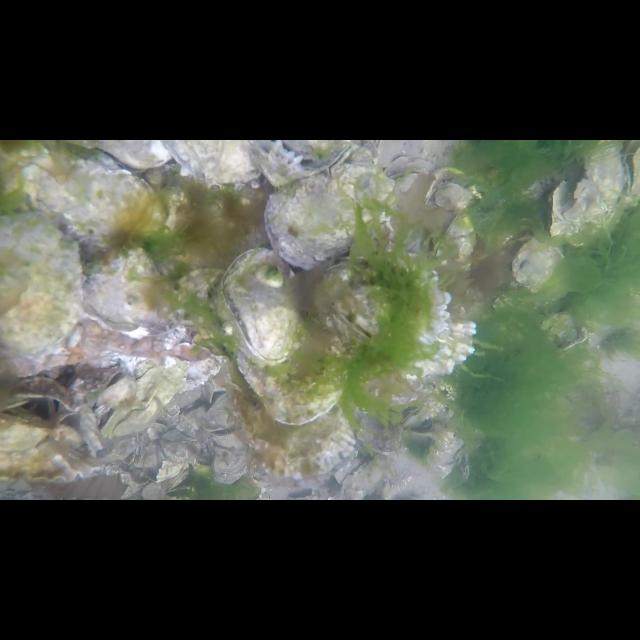Oyster-Closed: (312, 258, 476, 380), (236, 366, 356, 482), (233, 318, 359, 426), (20, 158, 172, 242), (0, 218, 78, 378), (80, 245, 182, 332), (550, 140, 624, 238), (102, 365, 186, 437), (0, 438, 108, 482), (348, 402, 404, 453), (1, 410, 64, 452), (512, 240, 560, 294), (424, 166, 476, 210), (436, 212, 476, 262), (340, 458, 386, 500), (211, 434, 249, 484), (202, 392, 238, 432)
Oyster-Open: (264, 170, 396, 270), (221, 248, 303, 364), (158, 140, 268, 190), (247, 140, 353, 180), (0, 375, 78, 423), (247, 140, 317, 190), (621, 140, 640, 199), (388, 170, 420, 194), (401, 404, 424, 428), (406, 422, 436, 436)
